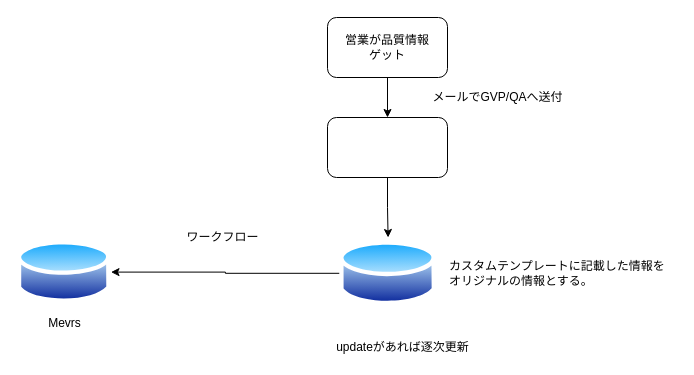
Some shapes in this 694 by 375 pixel diagram are drawn without their labels. Each missing label, with the centre of its shape:
Perma Document: the point at 387,273
QAがカスタムテンプレートに記入: the point at 387,147
